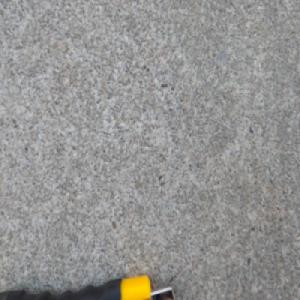Cutter: (0, 274, 176, 300)
